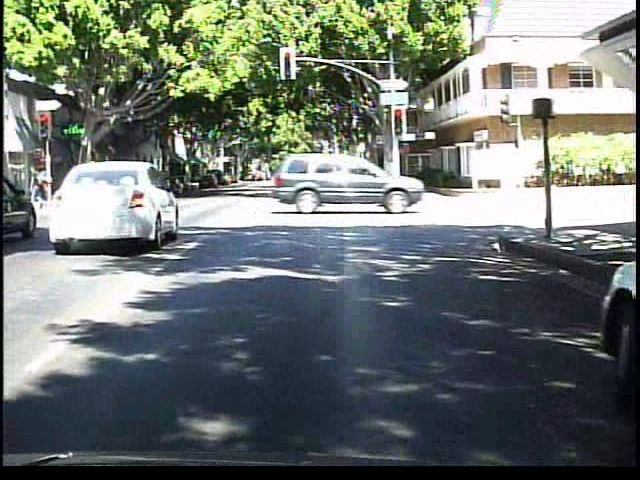person: (30, 164, 59, 207)
